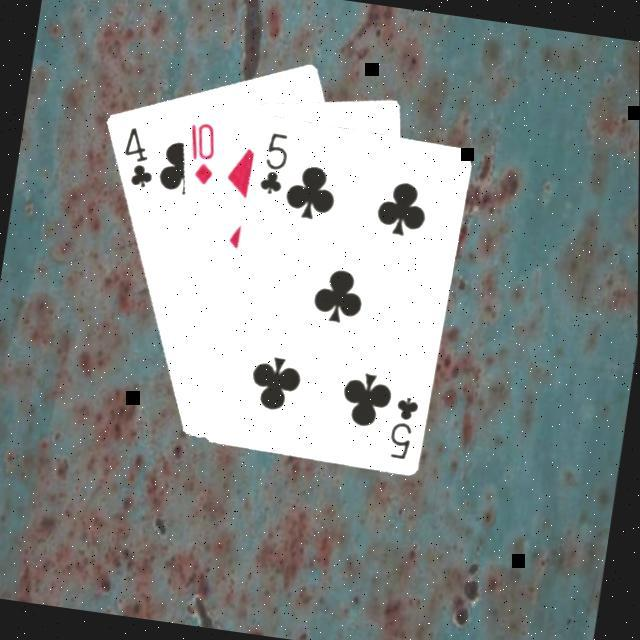10D: (178, 116, 222, 188)
4C: (114, 120, 162, 192)
5C: (383, 389, 422, 462), (254, 125, 292, 198)
